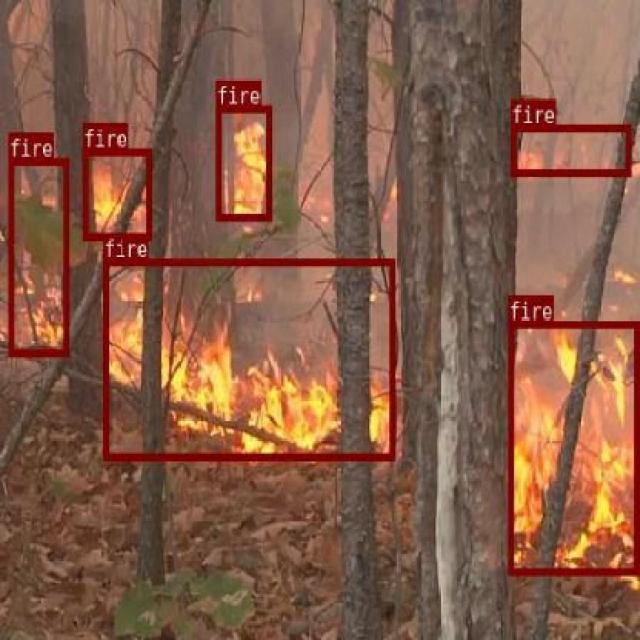Fire: (101, 258, 394, 460), (507, 319, 638, 573), (8, 156, 68, 356), (81, 146, 150, 240), (216, 103, 270, 220), (510, 124, 630, 176)
